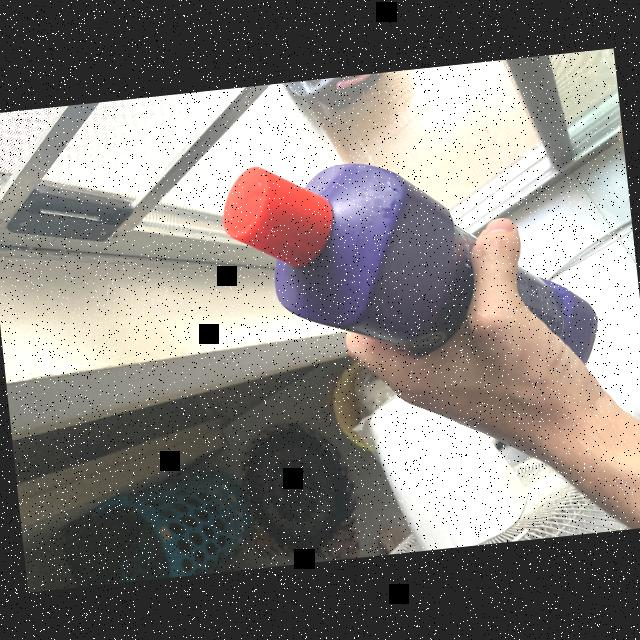toilet_cleaner: (211, 157, 610, 369)
